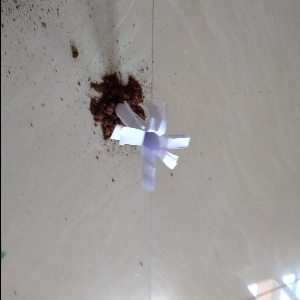weed: (108, 94, 195, 180)
